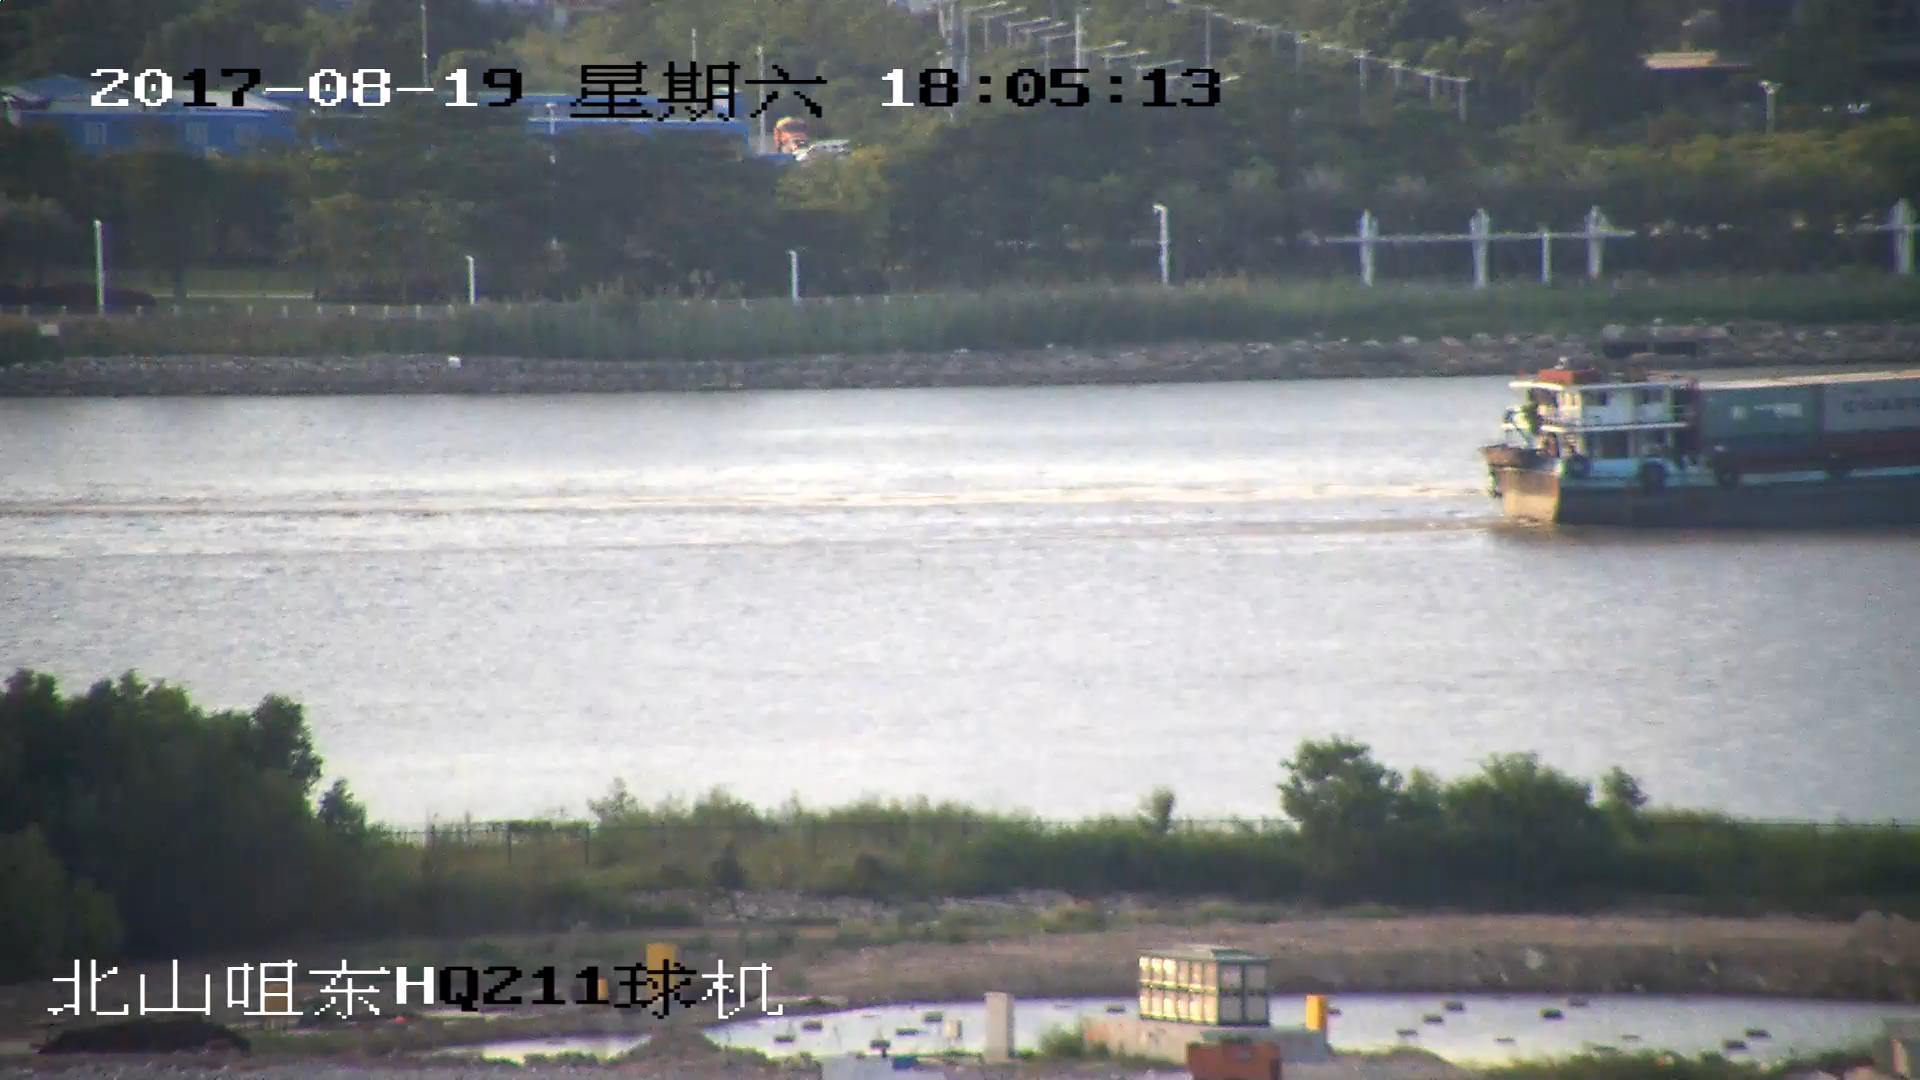container ship: (1482, 361, 1920, 527)
